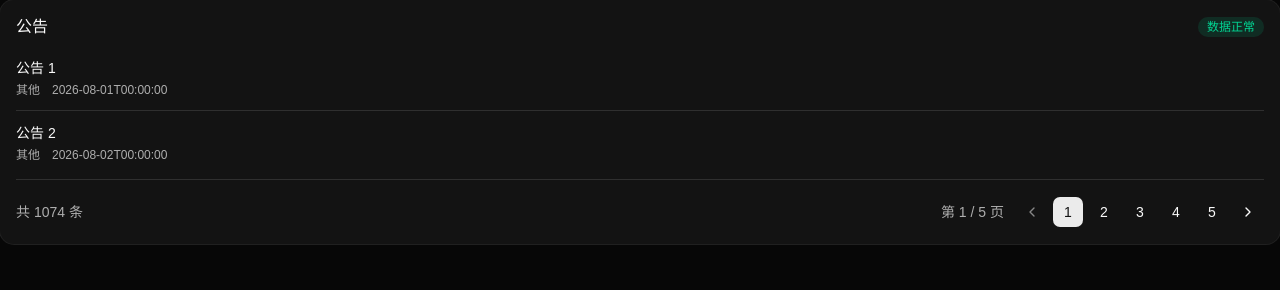
Test: AnnounceSection 公告分区分页（M12 T95） › 翻页失败：保留当前页内容 + 错误行 + 重试重发同目标页
Click the button with test id "announce-pagination-page-2" at (1104, 212), box [1088,196,1120,228]
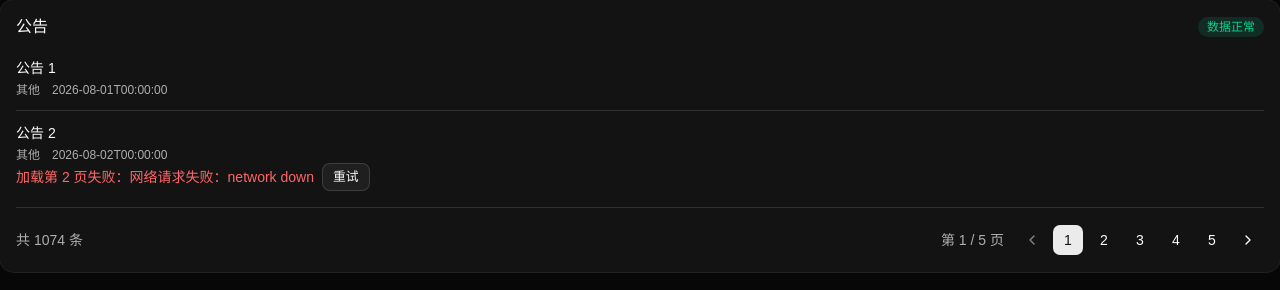
Expected: the text with test id "announce-pagination-page-indicator" reads "第 1 / 5 页", [941,230,1004,250]
Result: the message with test id "announce-pagination-error" shows "加载第 2 页失败" at [16,167,314,187]
Click the button with test id "announce-pagination-retry" at (346, 177), box [322,163,370,191]
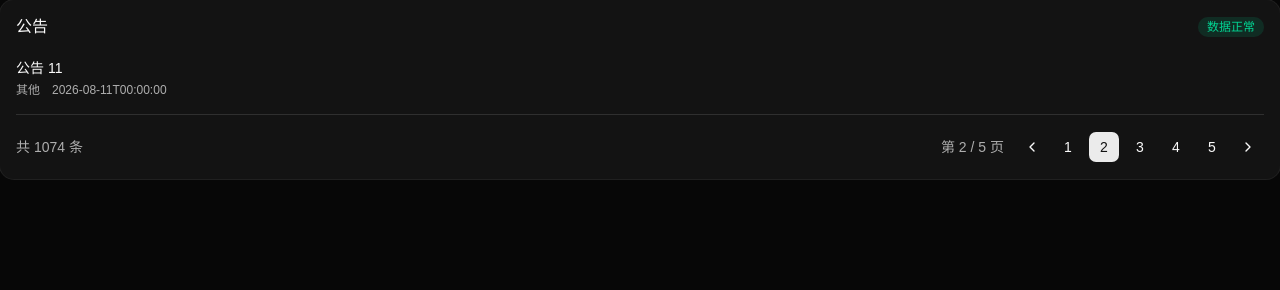
Result: the text with test id "announce-pagination-page-indicator" reads "第 2 / 5 页" at [941,137,1004,157]
